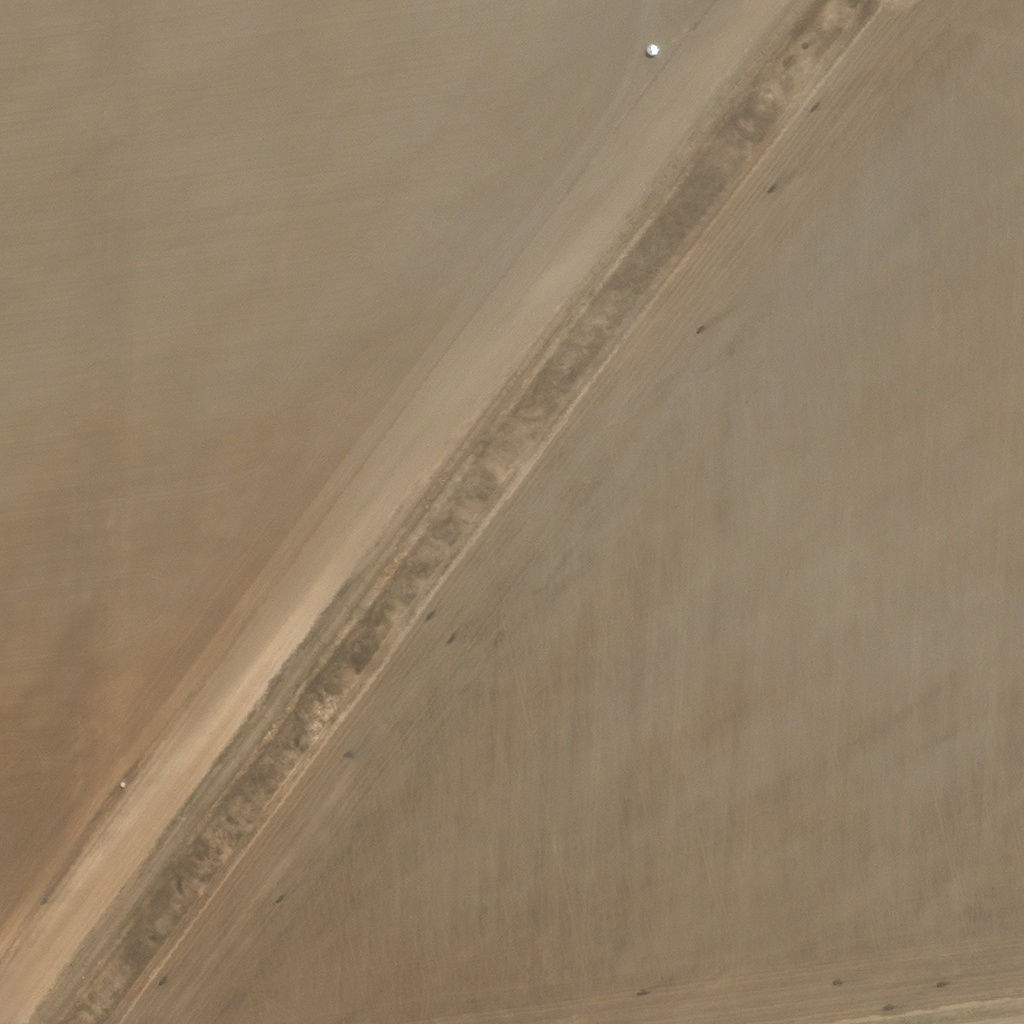0 no-damage: (119, 780, 125, 787)
